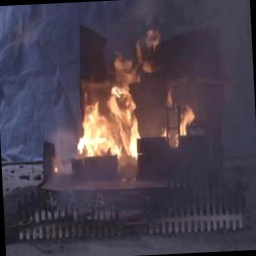fire: (67, 26, 163, 174)
